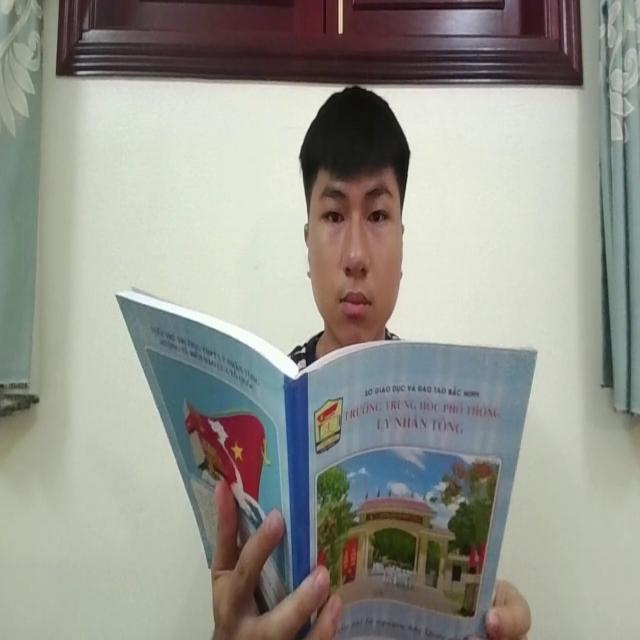book: (119, 279, 529, 623)
student: (285, 83, 425, 353)
